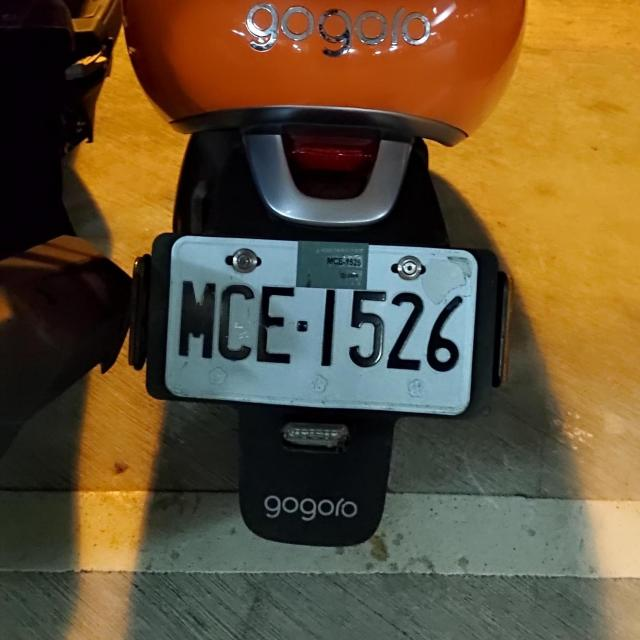W: (152, 232, 485, 416)
